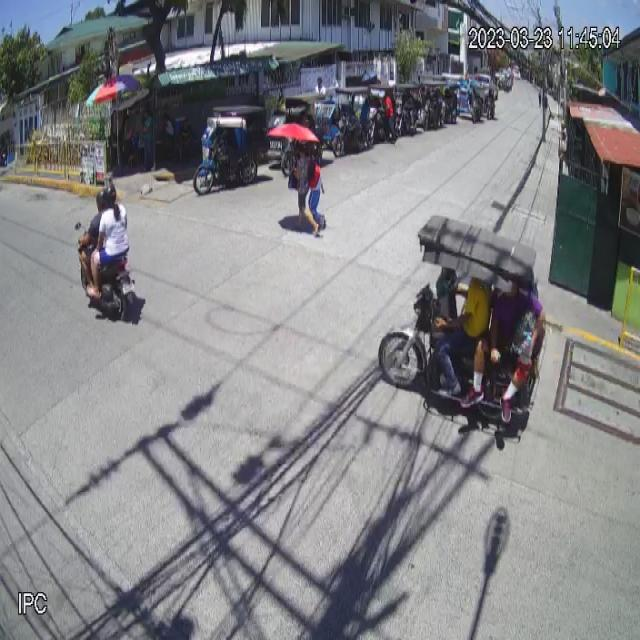Motorcycle: (72, 211, 135, 319)
Tricycle: (378, 216, 544, 433)
